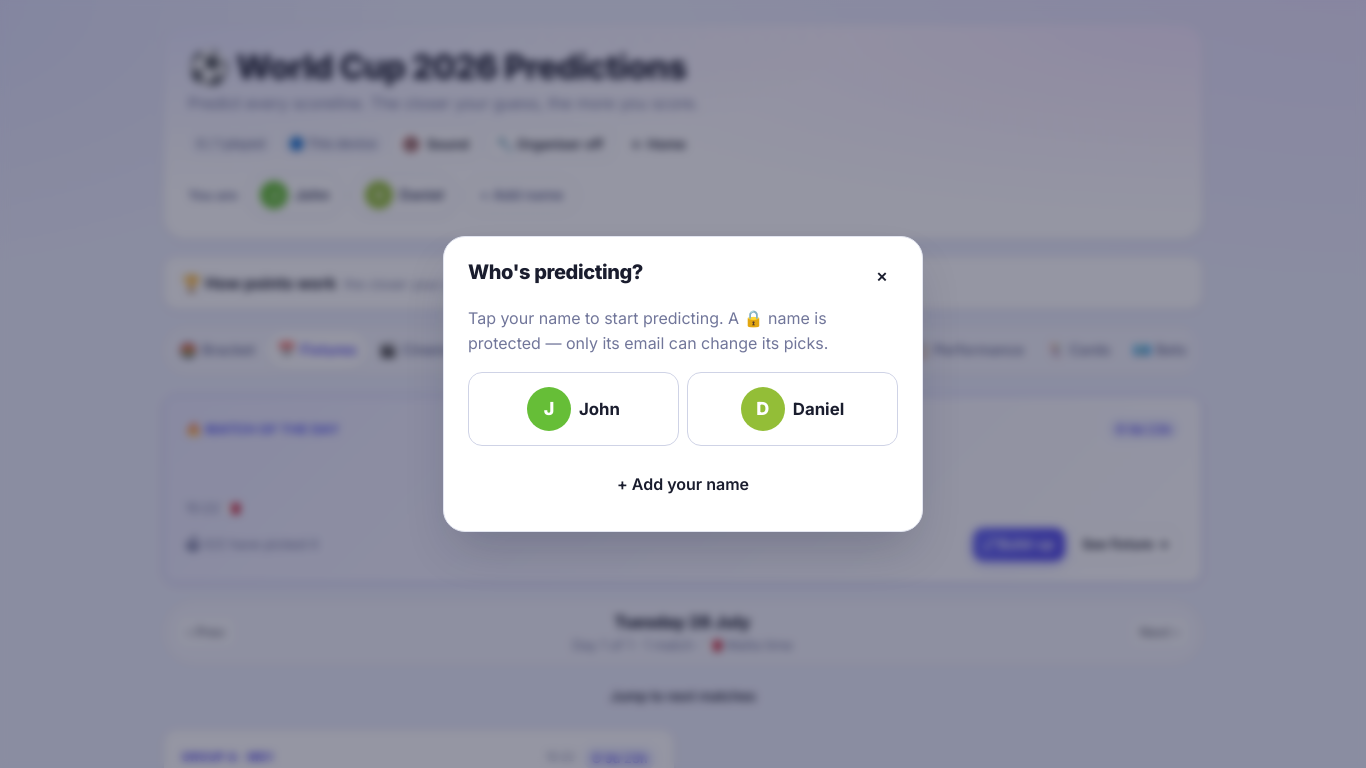
Test: WorldCupPage › switches a card between Match, Stats and Group views
expect the heading "⚽ World Cup 2026 Predictions" is shown: met, box x1=188 y1=47 x2=699 y2=87
expect the dialog is shown: met, box x1=443 y1=236 x2=923 y2=532
Press Escape
(page scrolled)
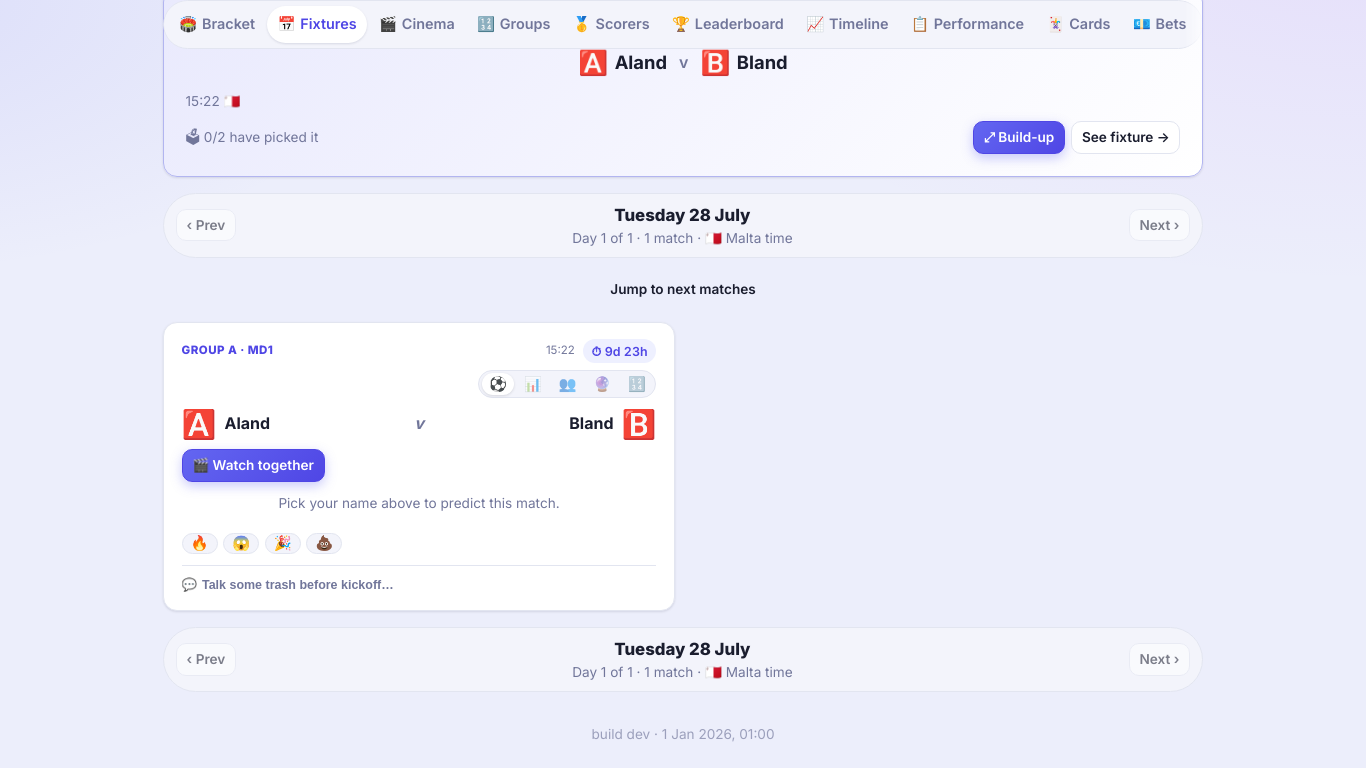
Stats view shows the form & record panel.
Click the tab named "Stats" at coordinates (533, 384), box x1=516 y1=373 x2=549 y2=395
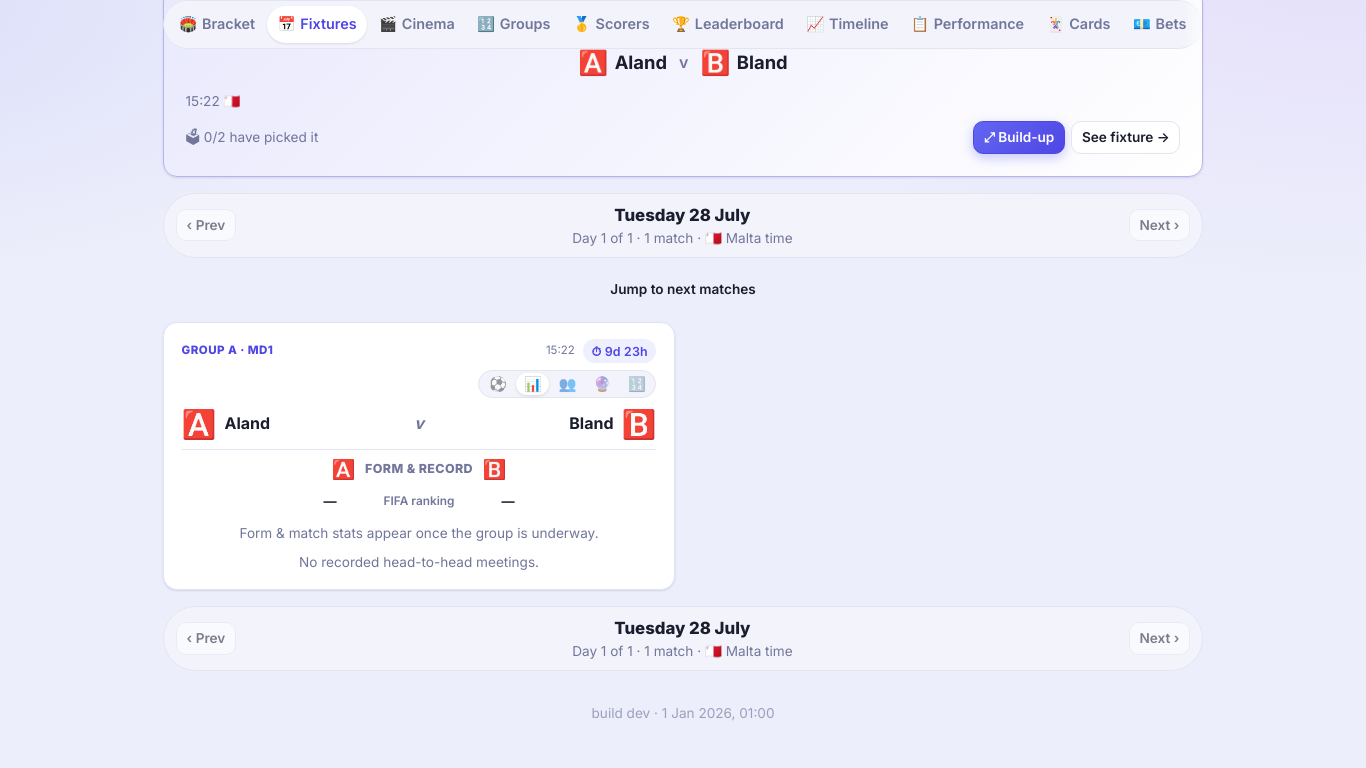
expect the text "Form & record" is shown: met, box x1=365 y1=460 x2=473 y2=479
Group view shows this group's standings table.
Click the tab named "Group" at coordinates (637, 384), box x1=621 y1=373 x2=653 y2=395
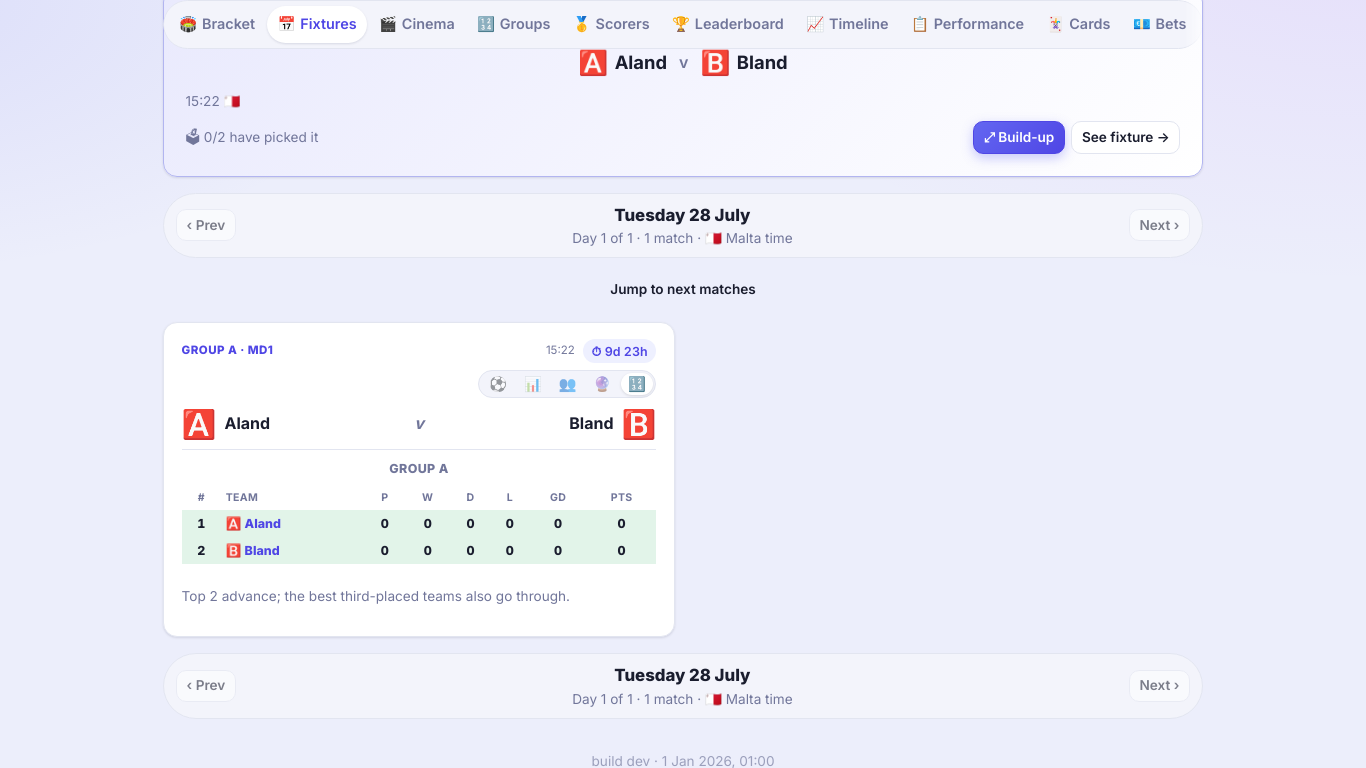
expect the text "Group A" is shown: met, box x1=389 y1=460 x2=449 y2=479
